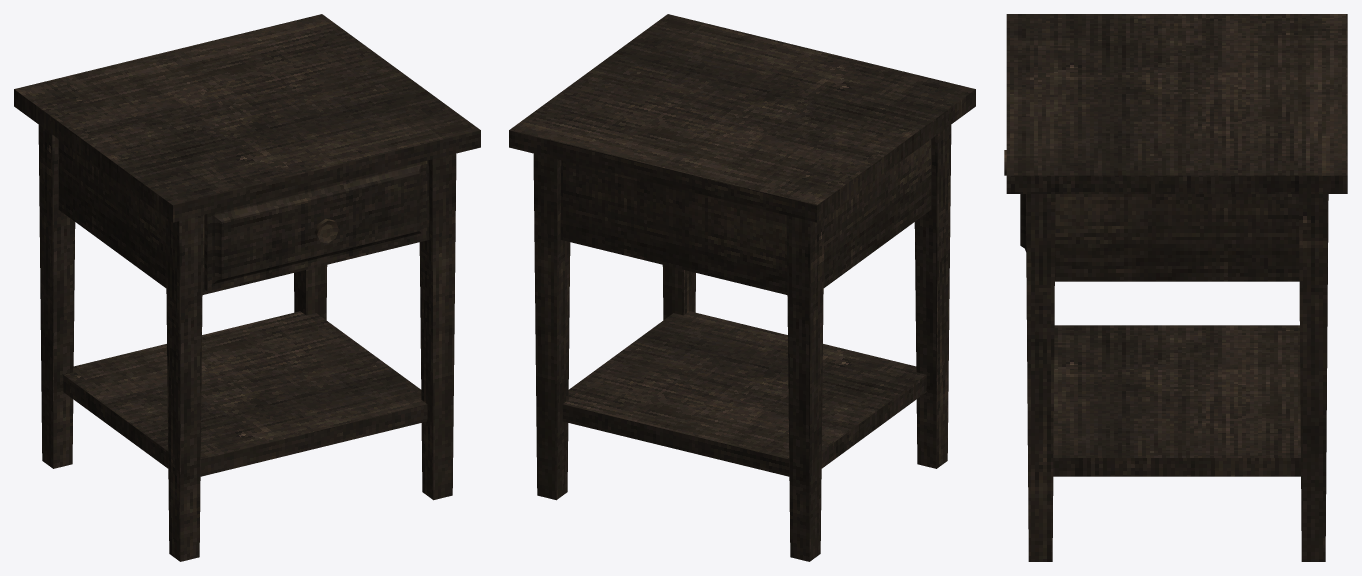
The model's file is bedside_table_1_2.glb.
3 views of the same model, side by side, from view 1: azimuth 30°, elevation 25°; view 2: azimuth 150°, elevation 25°; view 3: azimuth 270°, elevation 25° (orthographic). The views are drawn at different scales.
Parts seen in each view (by area): view 1: bedside_table_1_2, bedside_table_1_2_drawer; view 2: bedside_table_1_2; view 3: bedside_table_1_2.
Boxes of the visible parts, x1,y1,x2,y2 form: bedside_table_1_2: (14, 14, 480, 561); bedside_table_1_2_drawer: (204, 160, 427, 291); bedside_table_1_2: (509, 14, 975, 561); bedside_table_1_2: (1006, 14, 1347, 561).
Size of the model in its own units: 0.56 by 0.64 by 0.5035.
1 material, 1 textured.
